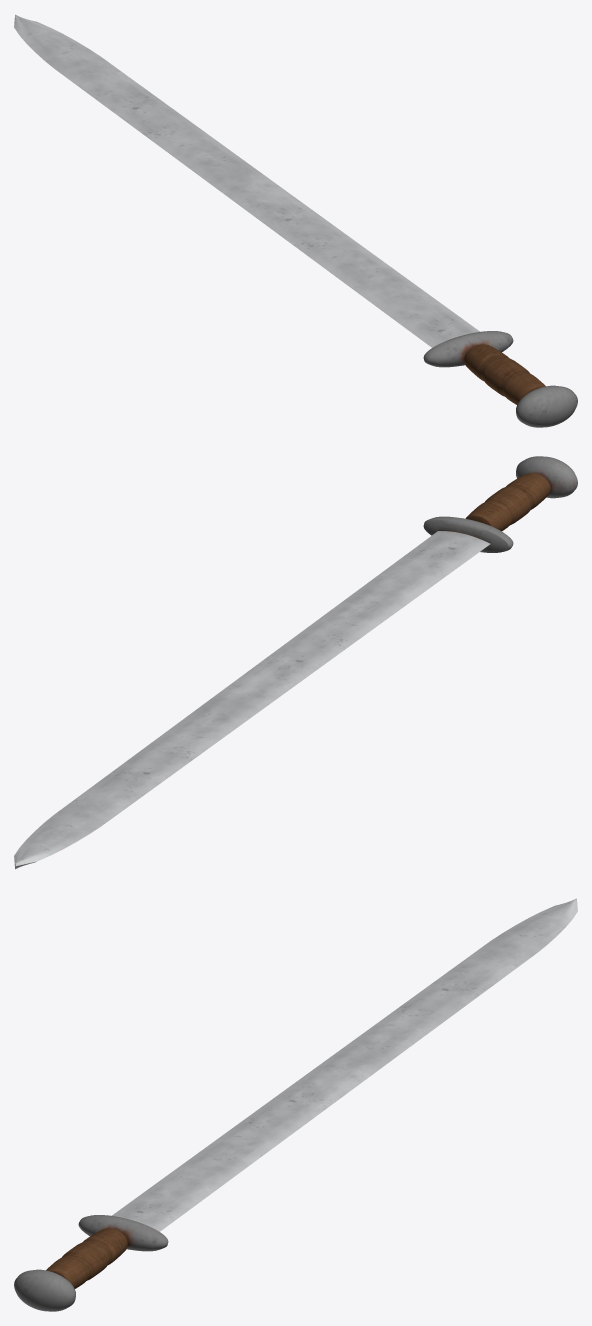
Rendered from soldier_spatha.glb.
The picture shows the model from 3 angles, top to bottom: view 1: azimuth 30°, elevation 25°; view 2: azimuth 150°, elevation 25°; view 3: azimuth 330°, elevation 25°; orthographic projection.
Visible parts, largest first — view 1: soldier_spatha; view 2: soldier_spatha; view 3: soldier_spatha.
Part boxes in pixels (x1=…): soldier_spatha: x1=14, y1=14, x2=577, y2=427; soldier_spatha: x1=14, y1=456, x2=577, y2=869; soldier_spatha: x1=14, y1=898, x2=577, y2=1311.
Size of the model in its own units: 0.0833 by 0.0332 by 0.886.
1 material, 1 textured.
